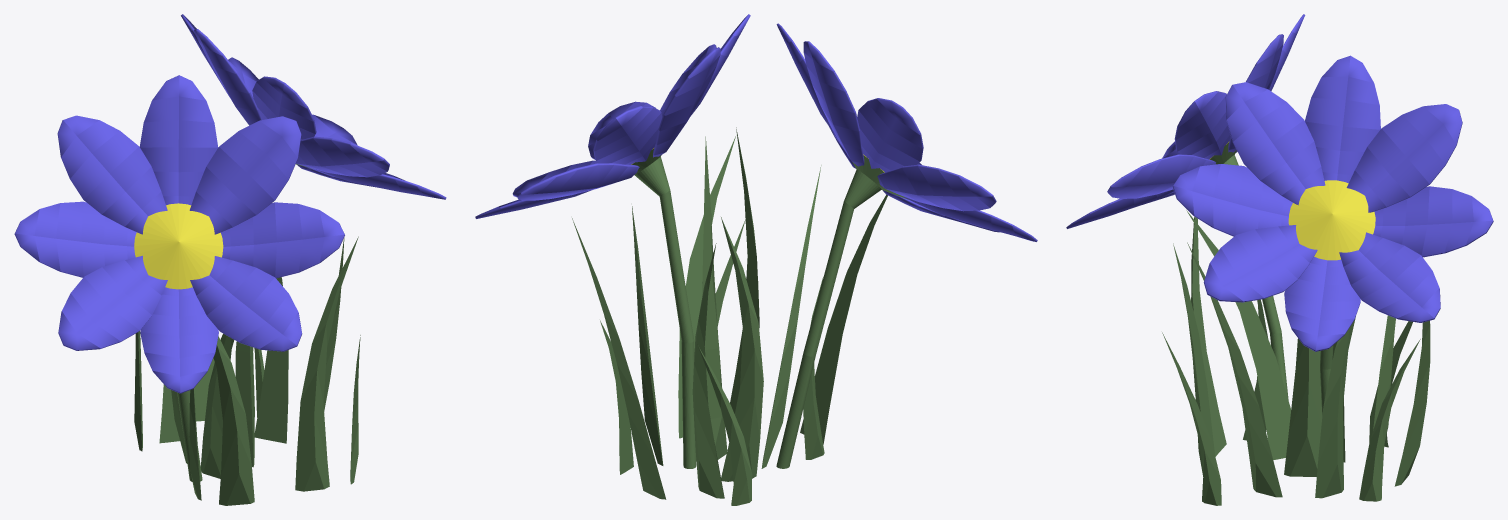
Rendered from Flower_B.fbx.
3 views of the same model, side by side, from view 1: azimuth 30°, elevation 25°; view 2: azimuth 150°, elevation 25°; view 3: azimuth 270°, elevation 25° (orthographic). The views are drawn at different scales.
Visible parts, largest first — view 1: Flower_B_LOD_0; view 2: Flower_B_LOD_0; view 3: Flower_B_LOD_0.
Boxes of the visible parts, x1,y1,x2,y2 form: Flower_B_LOD_0: [14, 14, 446, 505]; Flower_B_LOD_0: [475, 14, 1037, 505]; Flower_B_LOD_0: [1066, 14, 1493, 505].
Size of what is drawn, in the model's own units: 44.79 by 41.03 by 38.89.
